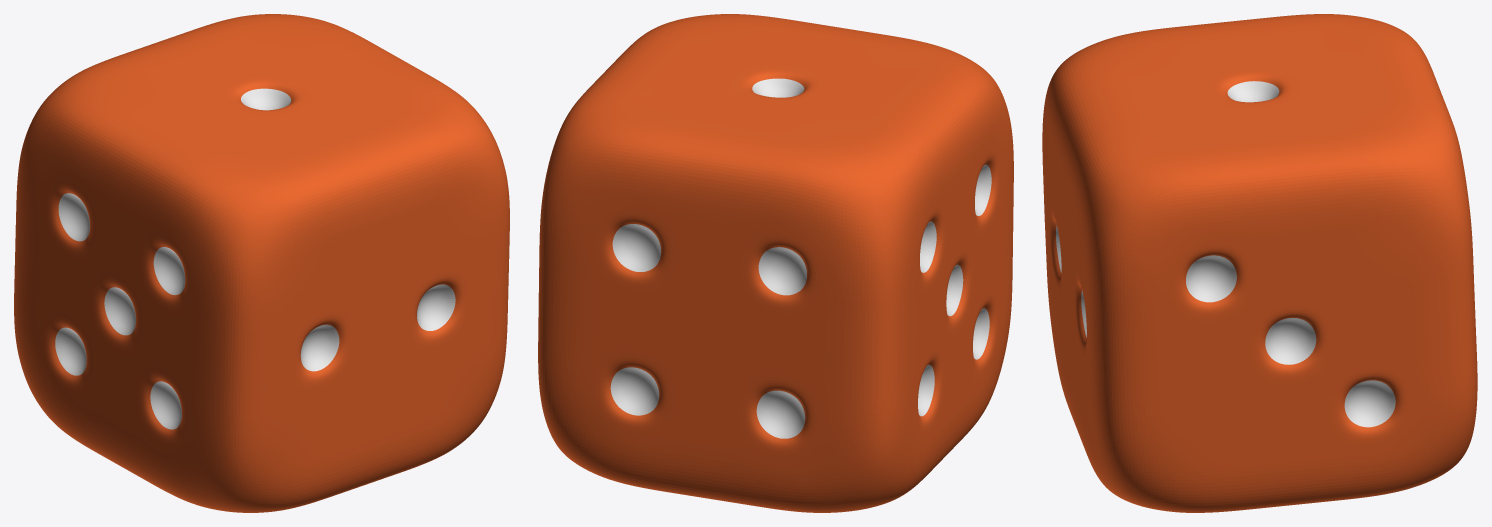
Rendered from dice.fbx.
3 views of the same model, side by side, from view 1: azimuth 30°, elevation 25°; view 2: azimuth 150°, elevation 25°; view 3: azimuth 270°, elevation 25° (orthographic). The views are drawn at different scales.
Visible parts, largest first — view 1: Cube; view 2: Cube; view 3: Cube.
Part boxes in pixels (x1,y1,x2,y2): Cube: [14, 14, 509, 512]; Cube: [538, 14, 1013, 512]; Cube: [1042, 14, 1477, 512].
Size of what is drawn, in the model's own units: 222 by 205 by 224.
